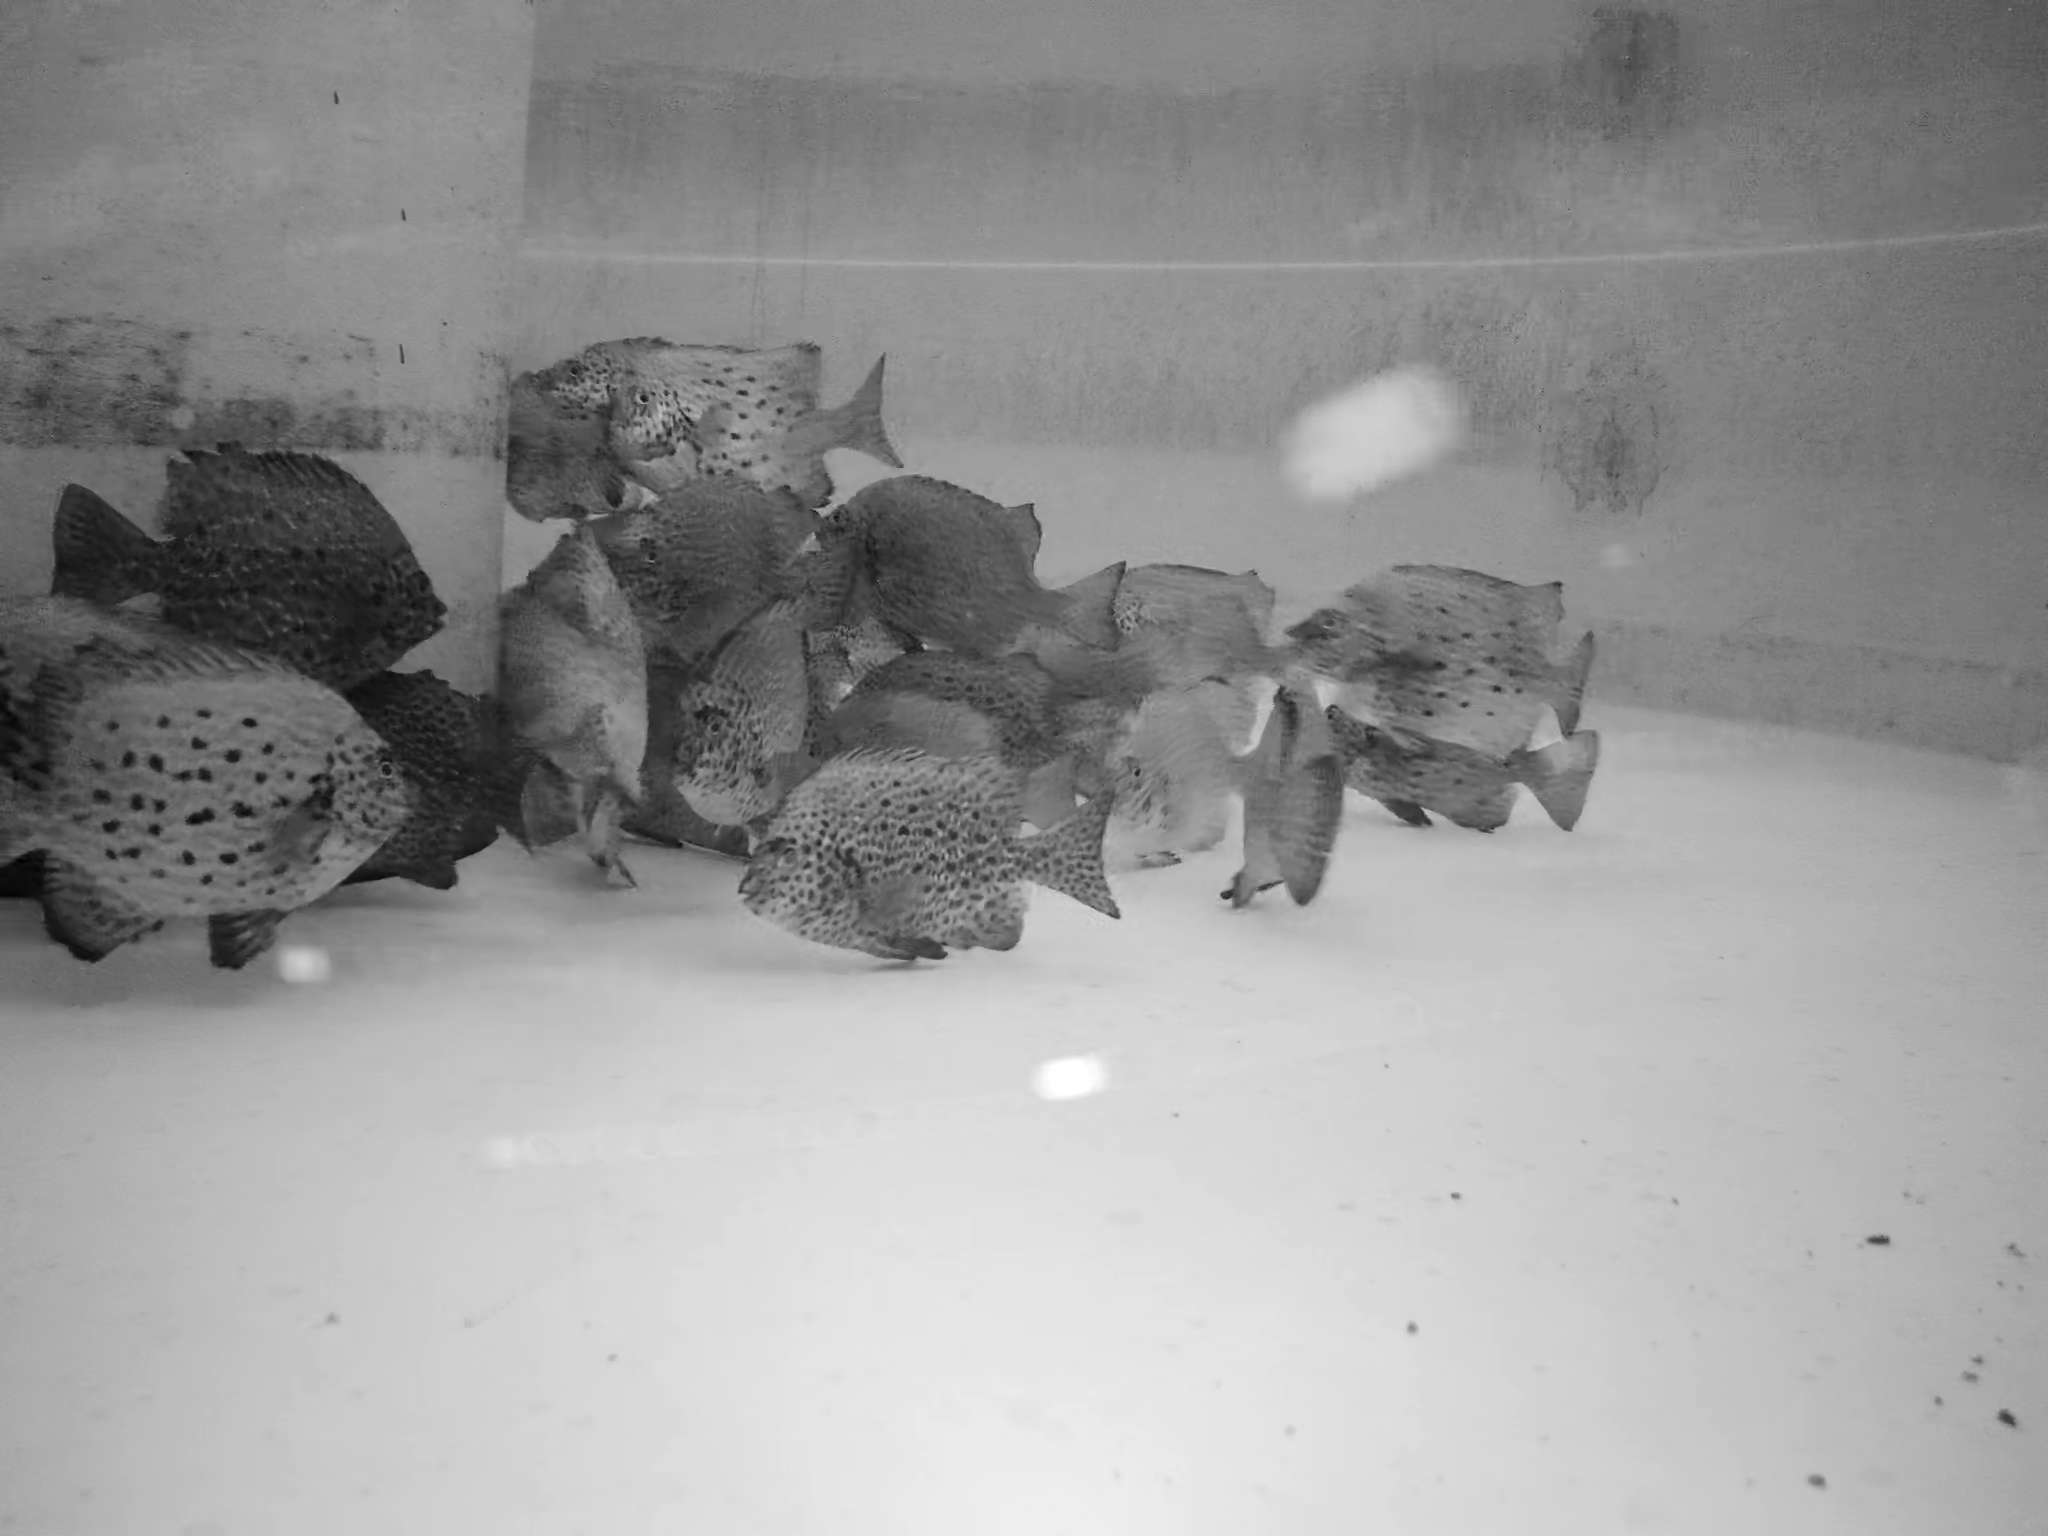fish: (6, 647, 418, 958), (47, 442, 452, 687), (751, 763, 1124, 971), (287, 663, 543, 900), (1280, 552, 1596, 739), (827, 486, 1124, 662), (505, 534, 656, 784), (601, 369, 906, 489), (1319, 702, 1595, 833), (597, 482, 826, 626), (1045, 557, 1276, 686), (810, 658, 1074, 762), (677, 611, 816, 805), (526, 331, 766, 424), (1118, 682, 1255, 844), (510, 368, 618, 524), (1243, 723, 1335, 902), (597, 361, 708, 494), (589, 795, 629, 900)
